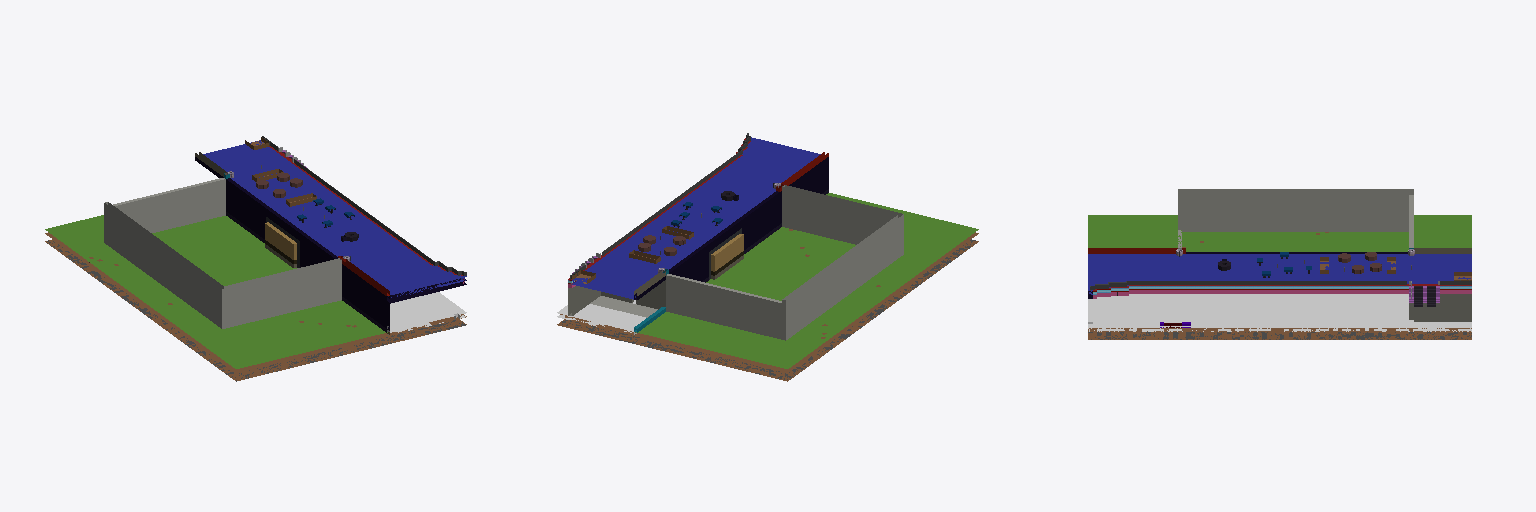
The picture shows the model from 3 angles: view 1: azimuth 30°, elevation 25°; view 2: azimuth 150°, elevation 25°; view 3: azimuth 270°, elevation 25°; orthographic projection.
Parts seen in each view (by area): view 1: minecraft_block-grass_block_top, minecraft_block-light_gray_concrete_powder, minecraft_block-blue_wool, minecraft_block-blue_terracotta, minecraft_block-dirt, minecraft_block-iron_block, minecraft_block-bedrock, minecraft_block-gray_stained_glass, minecraft_block-oak_planks, minecraft_block-podzol_side; view 2: minecraft_block-grass_block_top, minecraft_block-light_gray_concrete_powder, minecraft_block-blue_wool, minecraft_block-dirt, minecraft_block-blue_terracotta, minecraft_block-light_gray_concrete, minecraft_block-iron_block, minecraft_block-bedrock, minecraft_block-gray_stained_glass, minecraft_block-oak_planks, minecraft_block-podzol_side; view 3: minecraft_block-iron_block, minecraft_block-light_gray_concrete_powder, minecraft_block-blue_wool, minecraft_block-grass_block_top, minecraft_block-dirt, minecraft_block-light_gray_concrete, minecraft_block-gray_stained_glass, minecraft_block-atrium_blue_line, minecraft_block-atrium_red_line, minecraft_block-bedrock, minecraft_block-andesite.
Part boxes in pixels (left/top/right/bottom): minecraft_block-grass_block_top: left=45, top=215, right=387, bottom=368; minecraft_block-light_gray_concrete_powder: left=104, top=178, right=341, bottom=328; minecraft_block-blue_wool: left=203, top=140, right=466, bottom=297; minecraft_block-blue_terracotta: left=195, top=157, right=466, bottom=328; minecraft_block-dirt: left=45, top=140, right=466, bottom=380; minecraft_block-iron_block: left=388, top=292, right=466, bottom=334; minecraft_block-bedrock: left=47, top=240, right=465, bottom=381; minecraft_block-gray_stained_glass: left=262, top=136, right=466, bottom=275; minecraft_block-oak_planks: left=265, top=222, right=296, bottom=259; minecraft_block-podzol_side: left=245, top=137, right=316, bottom=206; minecraft_block-grass_block_top: left=636, top=193, right=978, bottom=368; minecraft_block-light_gray_concrete_powder: left=590, top=185, right=903, bottom=340; minecraft_block-blue_wool: left=572, top=137, right=820, bottom=299; minecraft_block-dirt: left=557, top=229, right=978, bottom=381; minecraft_block-blue_terracotta: left=634, top=157, right=828, bottom=299; minecraft_block-light_gray_concrete: left=568, top=280, right=665, bottom=315; minecraft_block-iron_block: left=557, top=300, right=645, bottom=334; minecraft_block-bedrock: left=562, top=239, right=975, bottom=379; minecraft_block-gray_stained_glass: left=570, top=134, right=750, bottom=279; minecraft_block-oak_planks: left=711, top=234, right=743, bottom=271; minecraft_block-podzol_side: left=572, top=226, right=693, bottom=283; minecraft_block-iron_block: left=1088, top=294, right=1471, bottom=331; minecraft_block-light_gray_concrete_powder: left=1178, top=189, right=1413, bottom=248; minecraft_block-blue_wool: left=1088, top=254, right=1471, bottom=294; minecraft_block-grass_block_top: left=1088, top=215, right=1471, bottom=251; minecraft_block-dirt: left=1088, top=232, right=1471, bottom=339; minecraft_block-light_gray_concrete: left=1409, top=294, right=1471, bottom=321; minecraft_block-gray_stained_glass: left=1090, top=281, right=1471, bottom=289; minecraft_block-atrium_blue_line: left=1093, top=286, right=1471, bottom=294; minecraft_block-atrium_red_line: left=1093, top=290, right=1471, bottom=298; minecraft_block-bedrock: left=1088, top=332, right=1471, bottom=339; minecraft_block-andesite: left=1088, top=248, right=1185, bottom=253.
Bounding box in the file's own units: 60 × 13.5 × 86.
Materials: 36 (3 with a texture image).